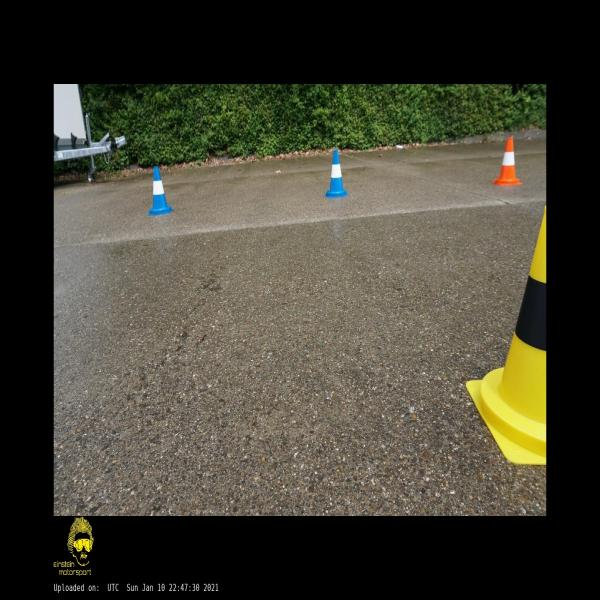blue_cone: (148, 167, 173, 215), (325, 151, 348, 198)
orange_cone: (492, 138, 522, 185)
yellow_cone: (466, 206, 546, 463)
